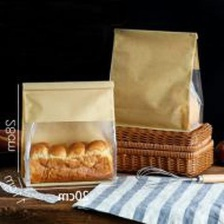snack: (14, 73, 124, 191), (102, 19, 209, 135)
